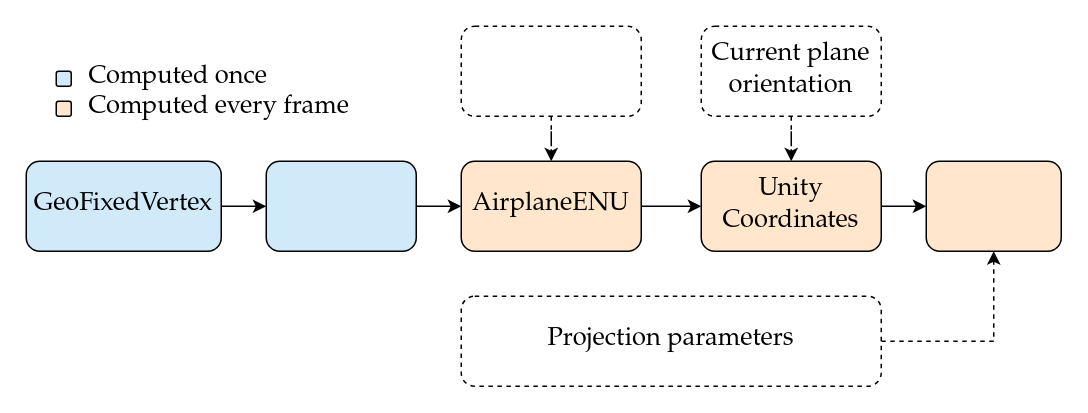
This 1088x413 diagram has some shape labels left out. Each missing label, with the centre of its shape:
"Current plane position" belongs at [550,70].
"EPSG:4978 (ECEF)" belongs at [340,205].
"Projected points" belongs at [993,205].
